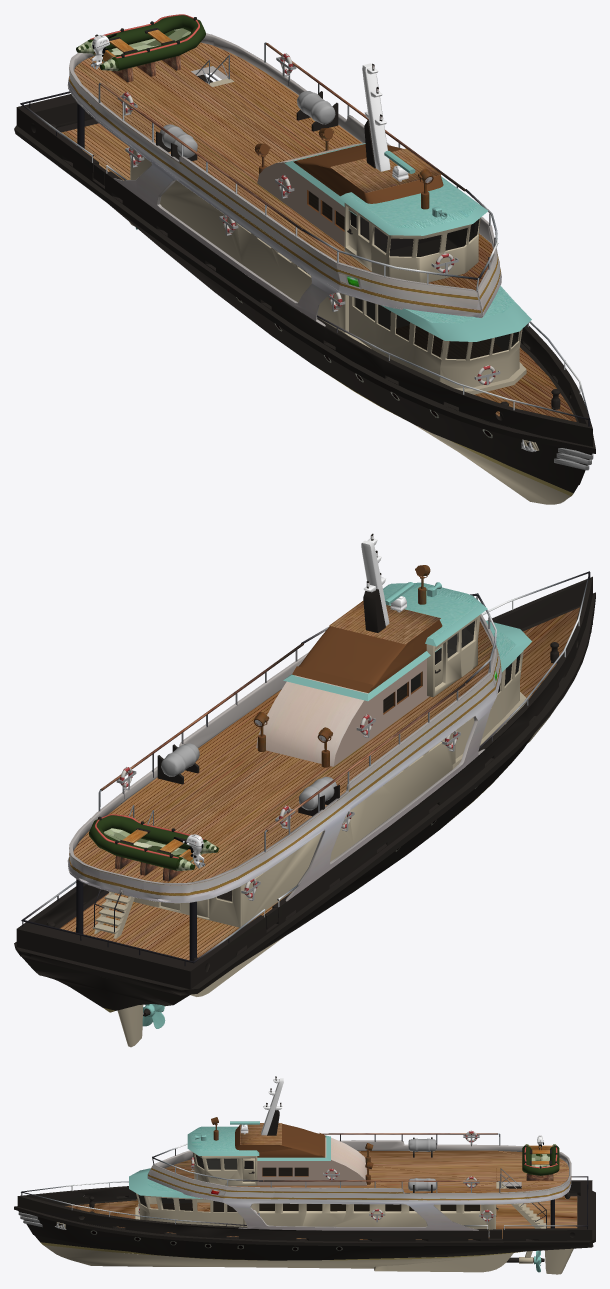
The model's file is yacht_ii.glb.
The picture shows the model from 3 angles, top to bottom: view 1: azimuth 30°, elevation 25°; view 2: azimuth 150°, elevation 25°; view 3: azimuth 270°, elevation 25°; orthographic projection. The views are drawn at different scales.
Parts seen in each view (by area): view 1: Object_31, Object_14, Object_34, Object_30, Object_2, Object_33, Object_29, Object_12, Object_27, Object_15, Object_4, Object_16 (+3 smaller); view 2: Object_31, Object_14, Object_34, Object_30, Object_4, Object_12, Object_2, Object_29, Object_27, Object_15, Object_16, Object_38 (+2 smaller); view 3: Object_31, Object_34, Object_14, Object_30, Object_2, Object_4, Object_29, Object_33, Object_12, Object_27, Object_16, Object_38 (+4 smaller).
Part boxes in pixels (x1,y1,x2,y2): Object_31: (14, 17, 595, 493); Object_14: (61, 42, 576, 421); Object_34: (129, 78, 571, 504); Object_30: (67, 59, 501, 325); Object_2: (135, 143, 531, 341); Object_33: (298, 191, 518, 359); Object_29: (69, 33, 501, 326); Object_12: (255, 128, 443, 231); Object_27: (20, 42, 590, 426); Object_15: (76, 15, 205, 71); Object_4: (257, 143, 364, 247); Object_16: (117, 56, 500, 385); Object_31: (14, 533, 595, 1016); Object_14: (60, 601, 579, 960); Object_34: (93, 615, 554, 1047); Object_30: (67, 631, 501, 902); Object_4: (256, 658, 429, 766); Object_12: (253, 565, 442, 767); Object_2: (142, 582, 531, 1028); Object_29: (69, 614, 500, 903); Object_27: (21, 571, 590, 966); Object_15: (89, 815, 218, 870); Object_16: (116, 718, 460, 900); Object_38: (100, 643, 466, 881); Object_31: (14, 1076, 595, 1262); Object_34: (43, 1152, 573, 1274); Object_14: (65, 1123, 577, 1239); Object_30: (147, 1140, 571, 1230); Object_2: (129, 1121, 541, 1272); Object_4: (257, 1137, 366, 1185); Object_29: (149, 1140, 570, 1230); Object_33: (138, 1153, 479, 1211); Object_12: (211, 1117, 373, 1184); Object_27: (21, 1133, 588, 1229); Object_16: (138, 1135, 495, 1223); Object_38: (263, 1133, 553, 1181).
Size of the model in its own units: 22.7 by 39.29 by 105.
28 materials, 26 textured.
